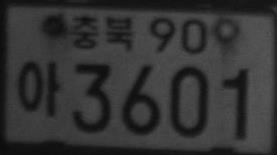0: (169, 65, 210, 138), (180, 17, 208, 54)
1: (216, 67, 256, 140)
3: (70, 61, 112, 134)
6: (120, 64, 161, 137)
9: (149, 15, 177, 52)
아: (17, 60, 61, 118)
충북_H: (70, 14, 133, 51)
